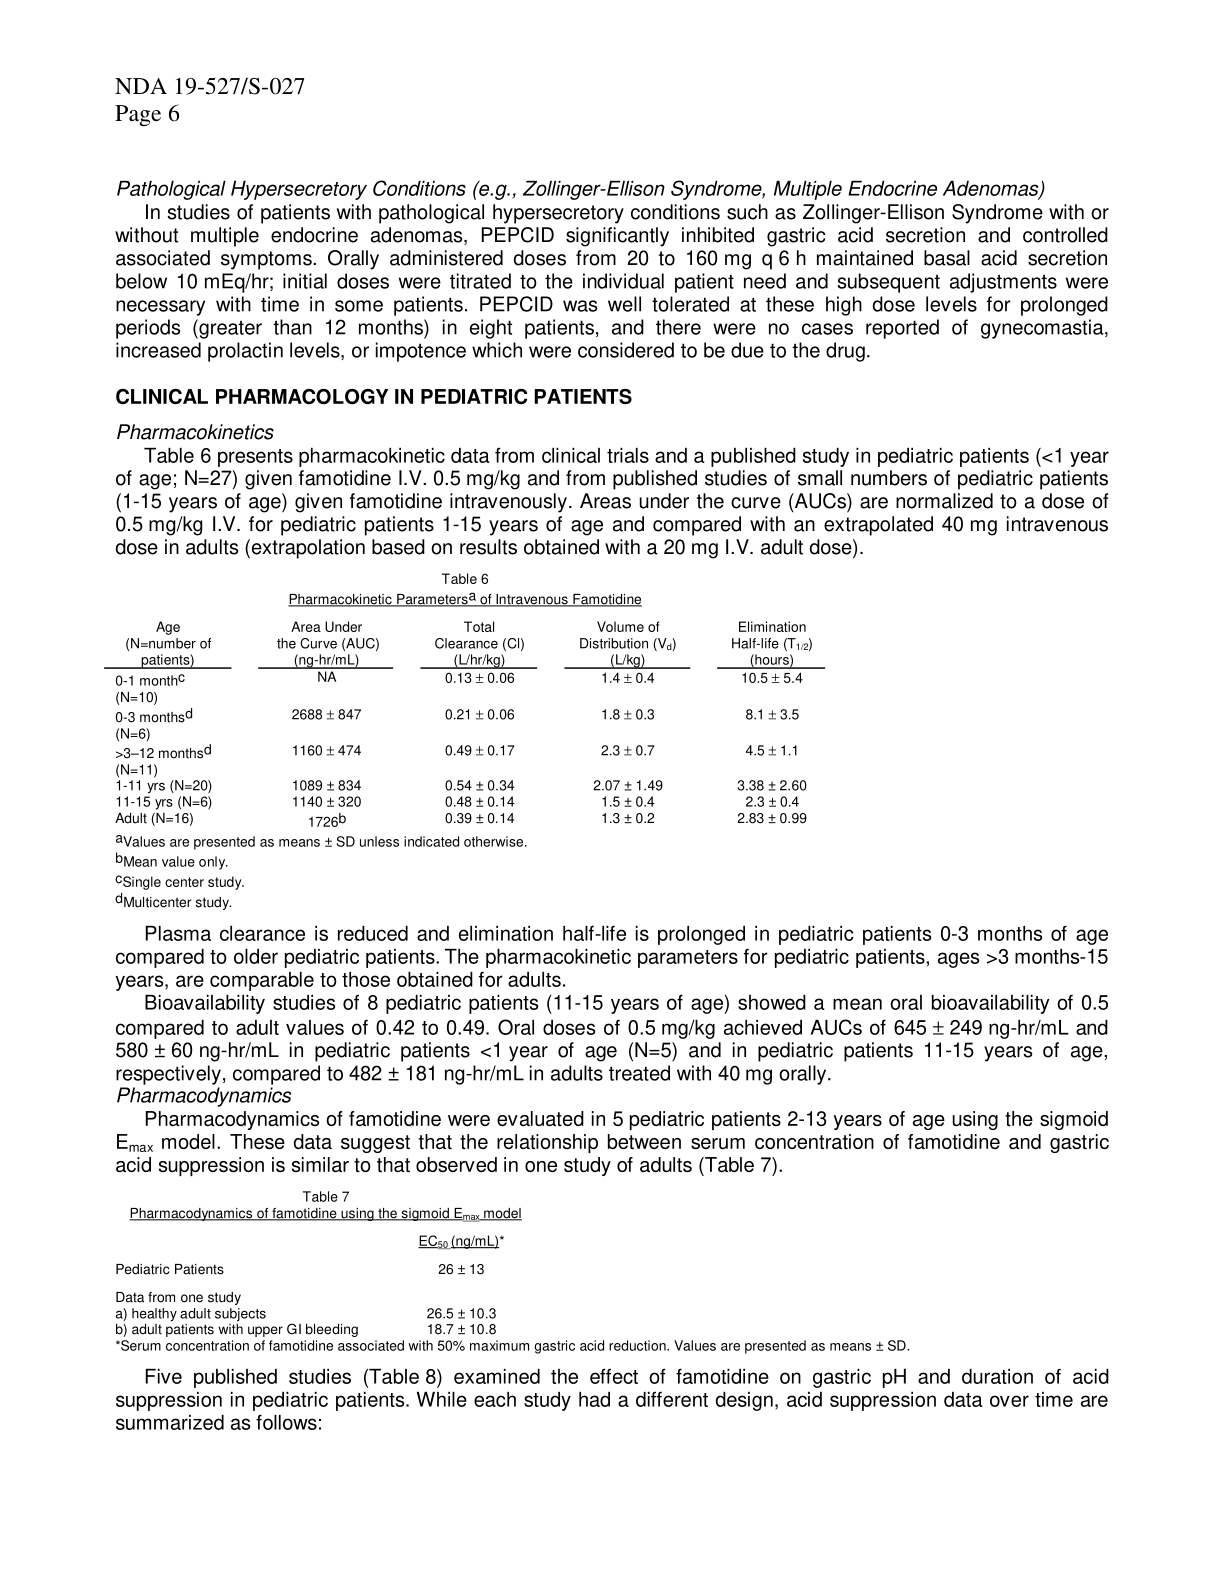nolines: (103, 611, 829, 827)
